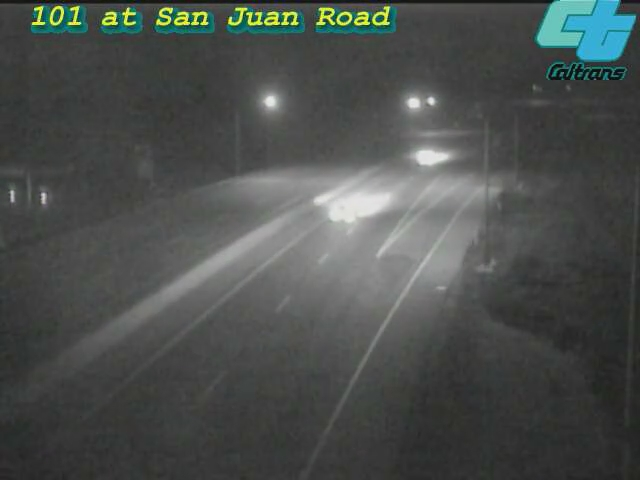vehicle: (382, 119, 462, 199), (299, 176, 379, 256)
